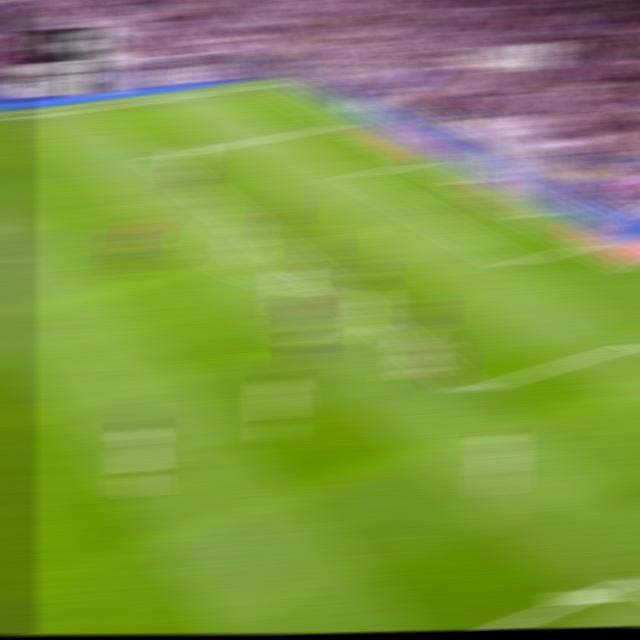bigarea_bottom_inner: (458, 380, 486, 403)
bigarea_top_inner: (146, 151, 169, 163)
bigarea_top_outter: (330, 117, 355, 128)
bottom_arc_area_intersection: (325, 283, 352, 300)
corner: (254, 80, 280, 87)
smallarea_top_inner: (347, 171, 370, 180)
top_arc_area_intersection: (219, 206, 241, 217)
